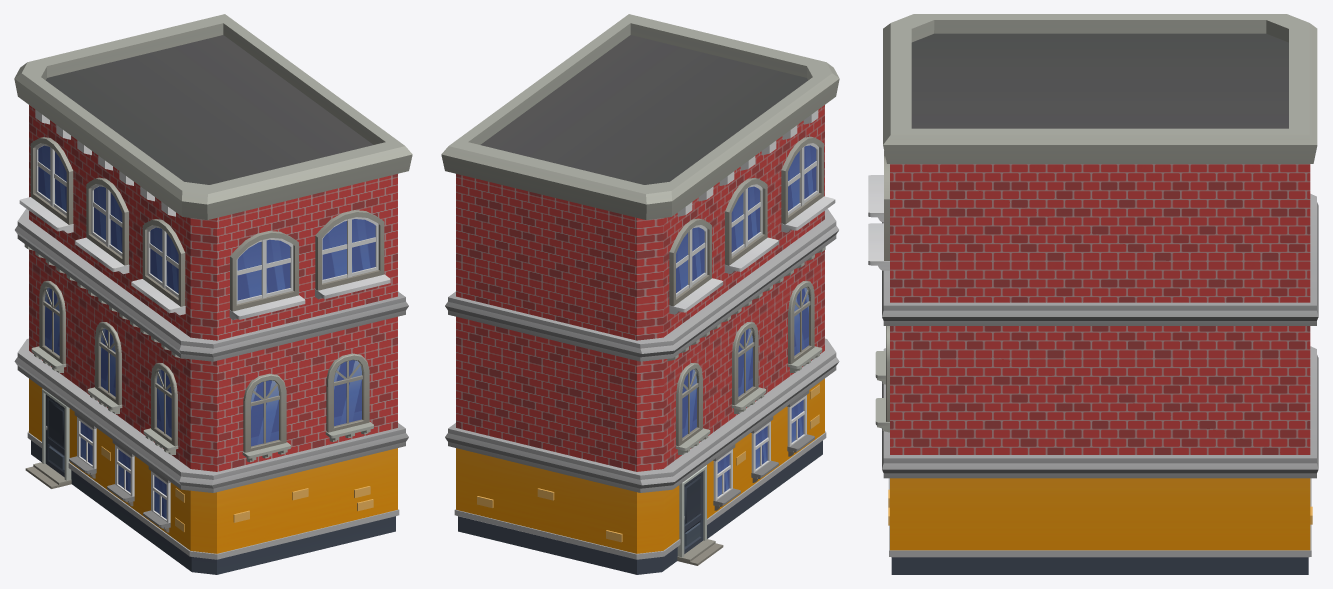
File: Building_18_3_R.glb
The picture shows the model from 3 angles, left to right: view 1: azimuth 30°, elevation 25°; view 2: azimuth 150°, elevation 25°; view 3: azimuth 270°, elevation 25°; orthographic projection. The views are drawn at different scales.
Parts seen in each view (by area): view 1: Building_18_3_R; view 2: Building_18_3_R; view 3: Building_18_3_R.
Boxes of the visible parts, x1,y1,x2,y2 form: Building_18_3_R: [14, 14, 412, 574]; Building_18_3_R: [441, 14, 839, 574]; Building_18_3_R: [868, 14, 1318, 574].
Bounding box in the file's own units: 7.19 × 11.56 × 10.59.
4 materials, 4 textured.
